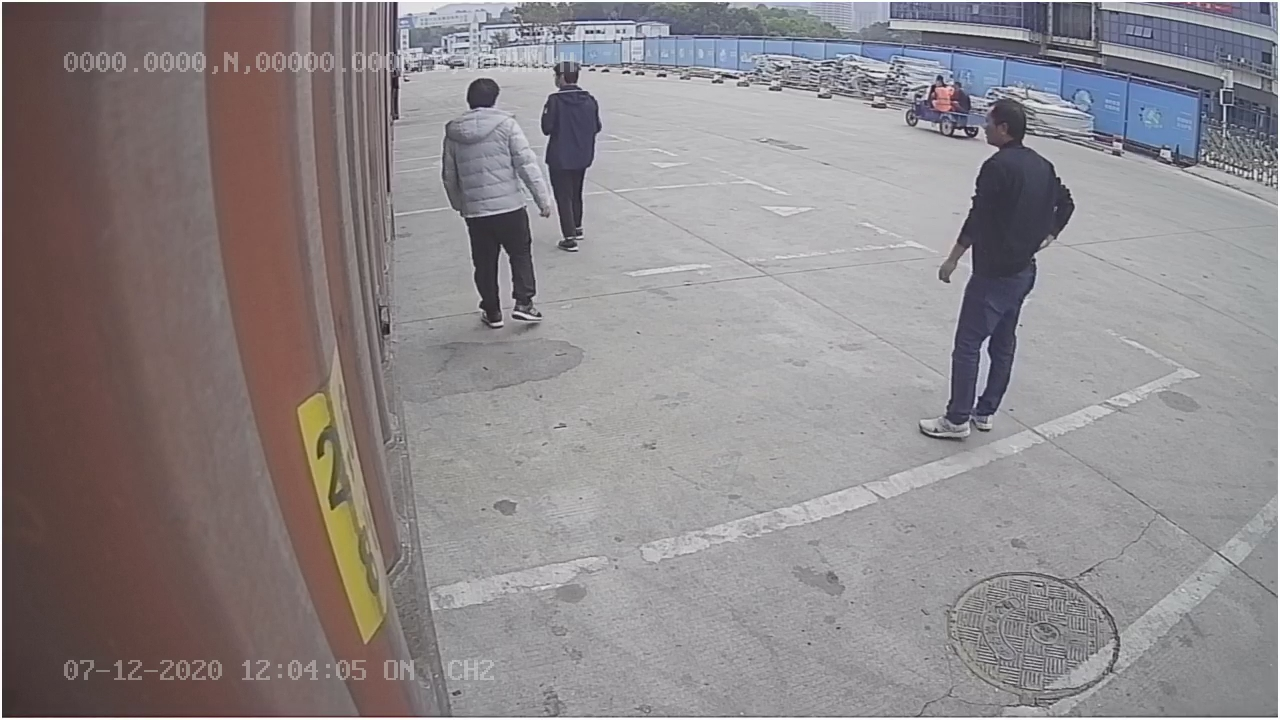person: (917, 93, 1077, 439), (433, 75, 552, 329)
